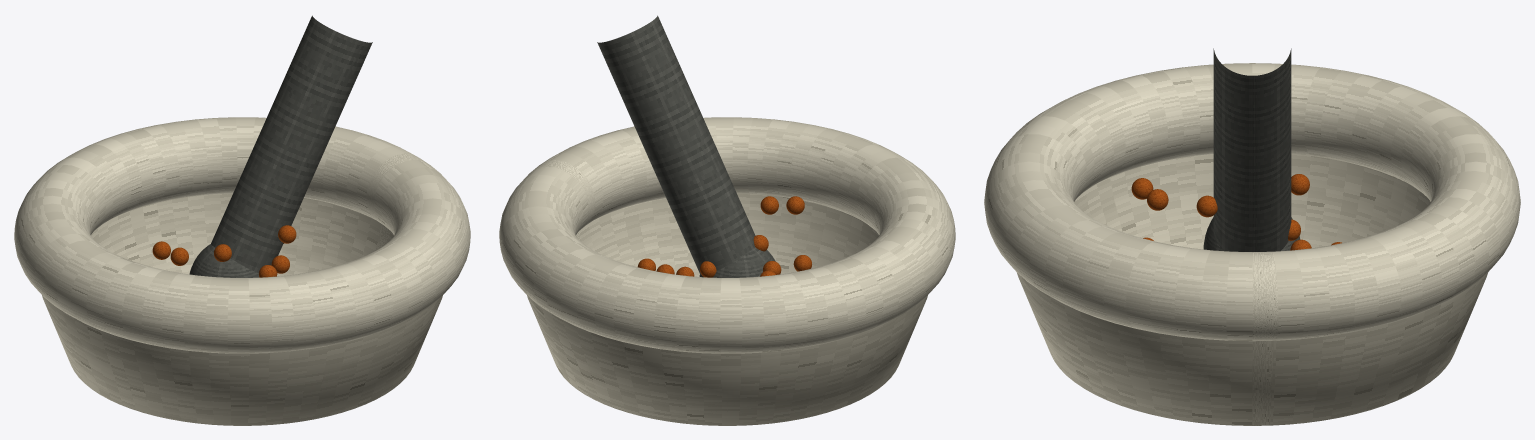
File: alat-32.glb
3 renders of one model, left to right at view 1: azimuth 30°, elevation 25°; view 2: azimuth 150°, elevation 25°; view 3: azimuth 270°, elevation 25°, orthographic. The views are drawn at different scales.
Parts seen in each view (by area): view 1: torus-1, mortar-0, pestle-2, pestle-3; view 2: torus-1, mortar-0, pestle-2, pestle-3; view 3: torus-1, mortar-0, pestle-2.
Part boxes in pixels (<box>): torus-1: <box>14,117,470,353</box>; mortar-0: <box>42,193,442,425</box>; pestle-2: <box>211,15,372,272</box>; pestle-3: <box>189,244,259,277</box>; torus-1: <box>499,117,955,353</box>; mortar-0: <box>527,193,927,425</box>; pestle-2: <box>597,15,755,275</box>; pestle-3: <box>699,247,775,277</box>; torus-1: <box>984,63,1520,341</box>; mortar-0: <box>1017,154,1487,425</box>; pestle-2: <box>1213,48,1291,251</box>.
Bounding box in the file's own units: 3.72 × 3.1 × 3.72.
37 materials, 37 textured.
